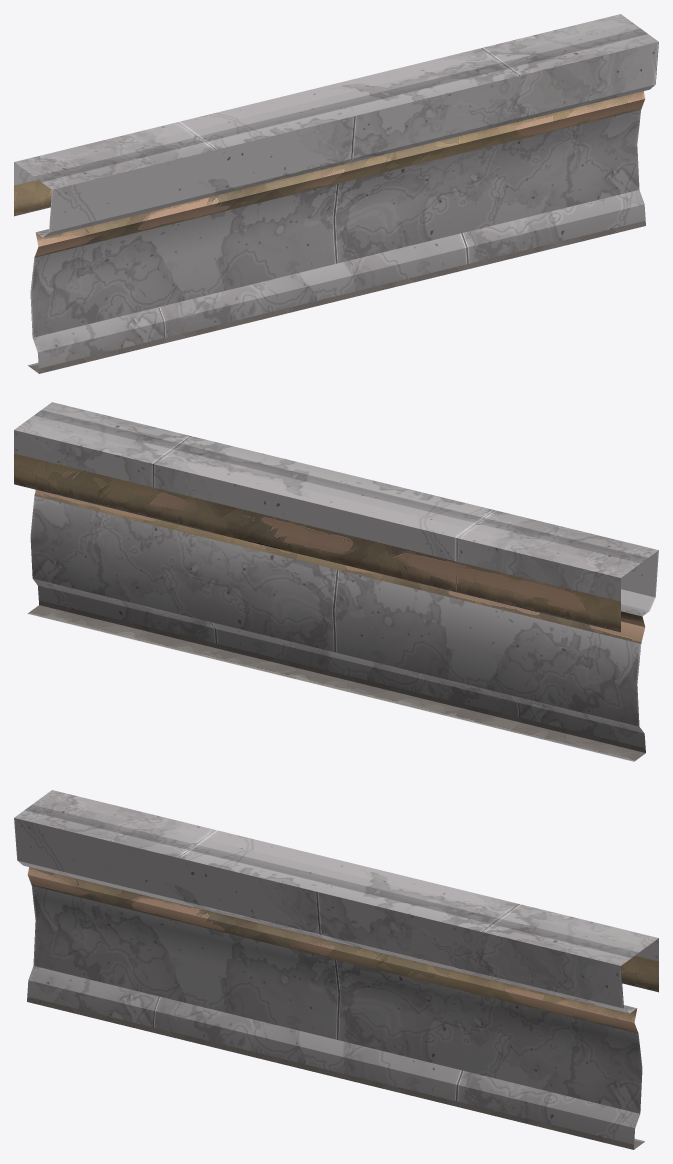
The model's file is Ev_company_inner_secondfloor.fbx.
3 renders of one model, top to bottom at view 1: azimuth 30°, elevation 25°; view 2: azimuth 150°, elevation 25°; view 3: azimuth 330°, elevation 25°, orthographic.
Visible parts, largest first — view 1: Ev_company_inner_secondfloor; view 2: Ev_company_inner_secondfloor; view 3: Ev_company_inner_secondfloor.
Boxes of the visible parts, x1,y1,x2,y2 form: Ev_company_inner_secondfloor: (14, 14, 658, 373); Ev_company_inner_secondfloor: (14, 402, 658, 761); Ev_company_inner_secondfloor: (14, 790, 658, 1149).
Bounding box in the file's own units: 200 × 21.76 × 60.93.
